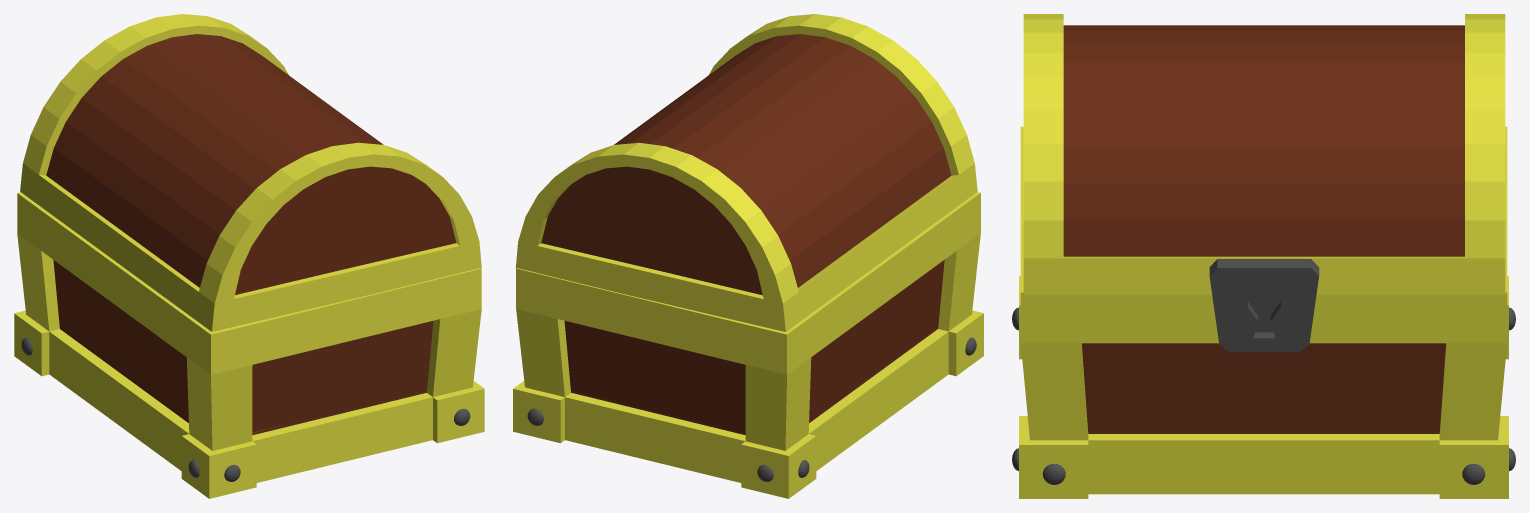
The model's file is Bau2.fbx.
3 views of the same model, side by side, from view 1: azimuth 30°, elevation 25°; view 2: azimuth 150°, elevation 25°; view 3: azimuth 270°, elevation 25° (orthographic). The views are drawn at different scales.
Parts seen in each view (by area): view 1: Empty; view 2: Empty; view 3: Empty.
Boxes of the visible parts, x1,y1,x2,y2 form: Empty: (14, 14, 484, 498); Empty: (513, 14, 983, 498); Empty: (1012, 14, 1515, 498).
Size of the model in its own units: 227 by 191 by 191.
